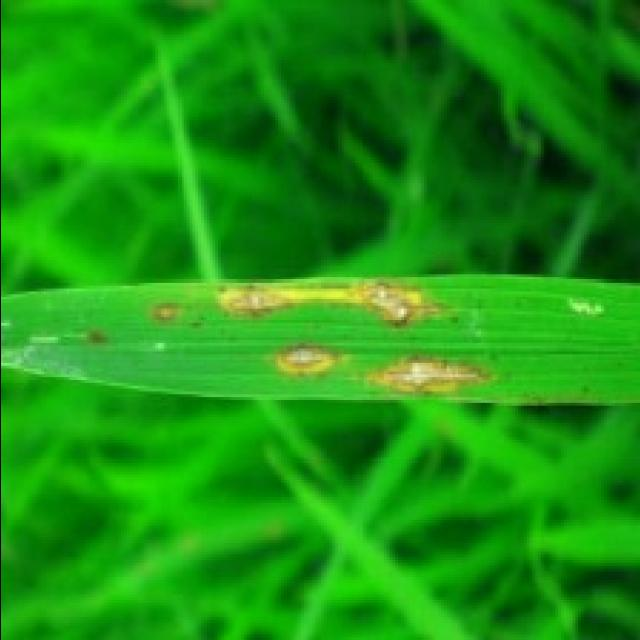Unhealthy: (222, 284, 443, 331), (368, 352, 492, 398), (272, 340, 341, 378), (147, 303, 180, 327), (565, 297, 605, 316), (87, 329, 108, 347)
